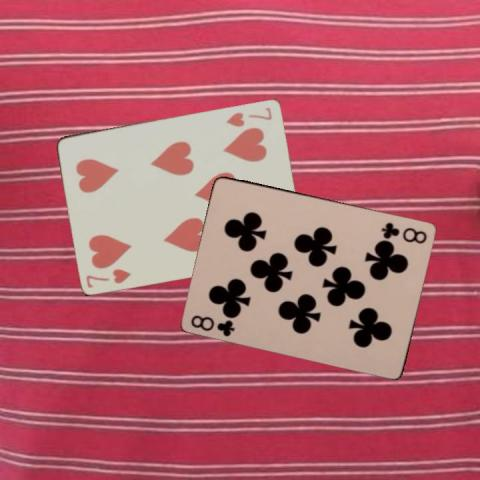7h: (223, 104, 274, 128), (83, 265, 133, 289)
8c: (188, 311, 237, 338), (378, 218, 428, 244)
